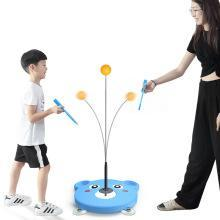ball: (98, 62, 111, 76), (74, 89, 87, 101), (123, 89, 135, 102)
